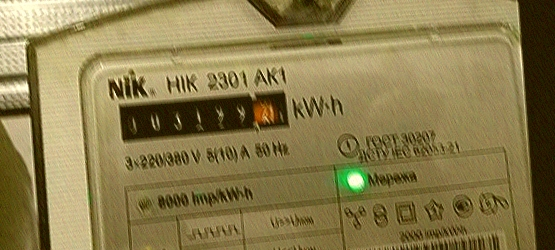0: (151, 110, 163, 130), (128, 113, 138, 131)
1: (194, 104, 204, 122)
3: (172, 108, 184, 129)
6: (261, 107, 272, 122)
9: (215, 101, 226, 122), (237, 102, 248, 120)
screen: (112, 80, 298, 147)
